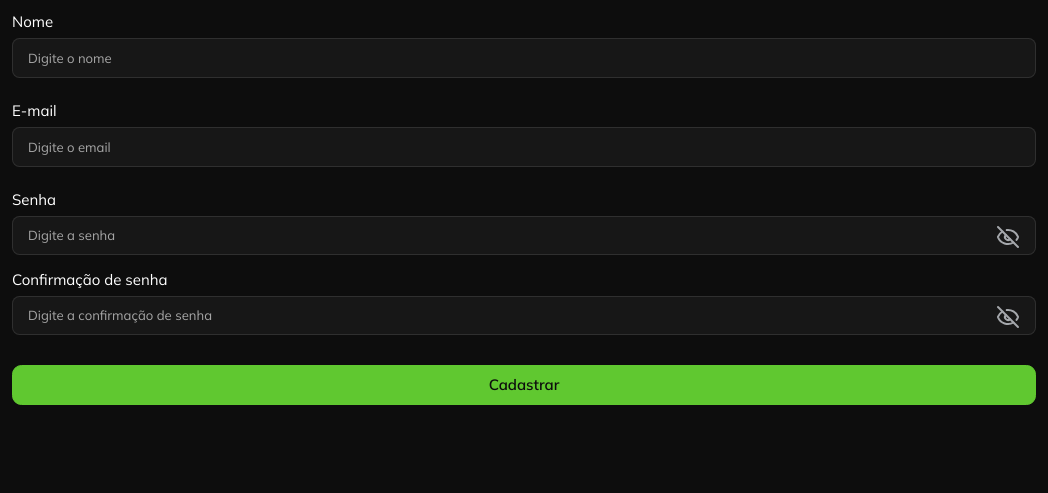
Test: Register Form › Interactions › should show validation errors
This screenshot has width=1048, height=493.
Click the button "Cadastrar".
click(524, 385)  # box top-left (12, 365), bottom-right (1036, 405)
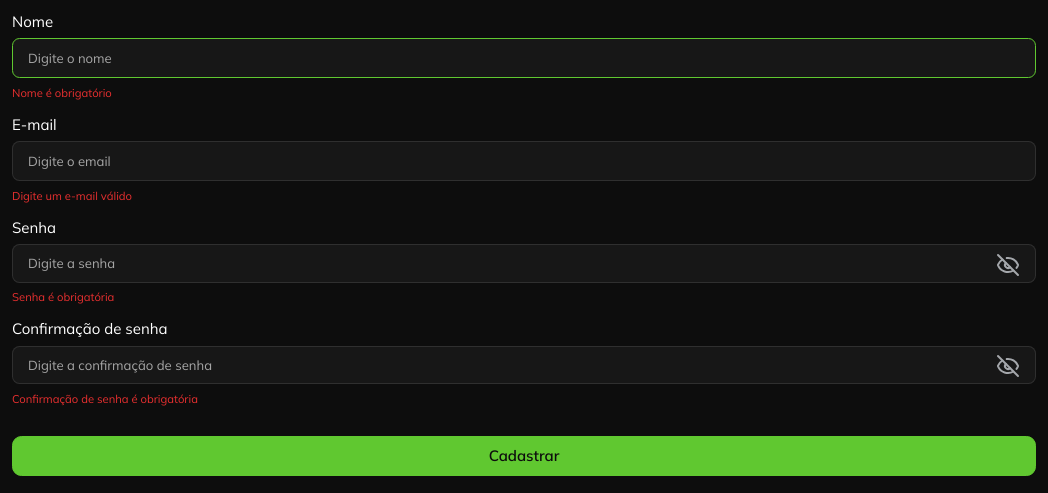
Result: the text "Nome é obrigatório" is shown at top-left (12, 86), bottom-right (112, 100)
Result: the text "Digite um e-mail válido" is shown at top-left (12, 188), bottom-right (132, 202)
Result: the text "Senha é obrigatória" is shown 2 times at top-left (12, 290), bottom-right (114, 304); top-left (12, 392), bottom-right (198, 406)
